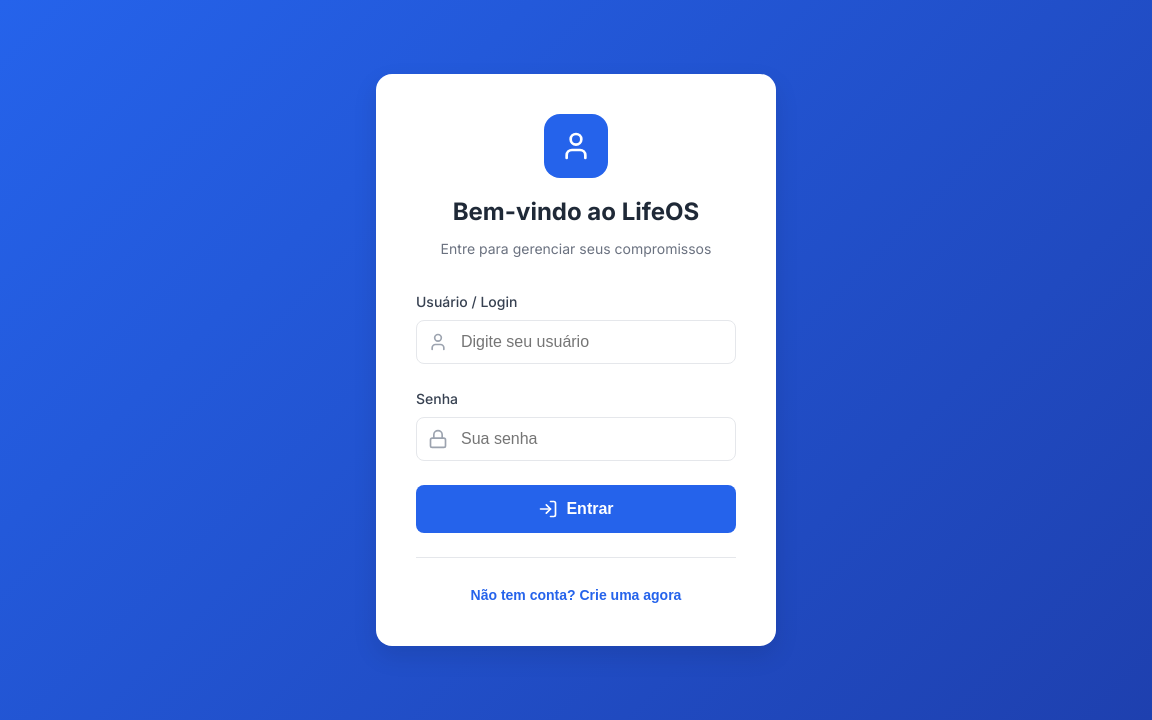
Test: Login Component › deve alternar para modo registro ao clicar no botão
Click the button "Não tem conta? Crie uma agora" at (576, 595), box x1=471 y1=587 x2=681 y2=603
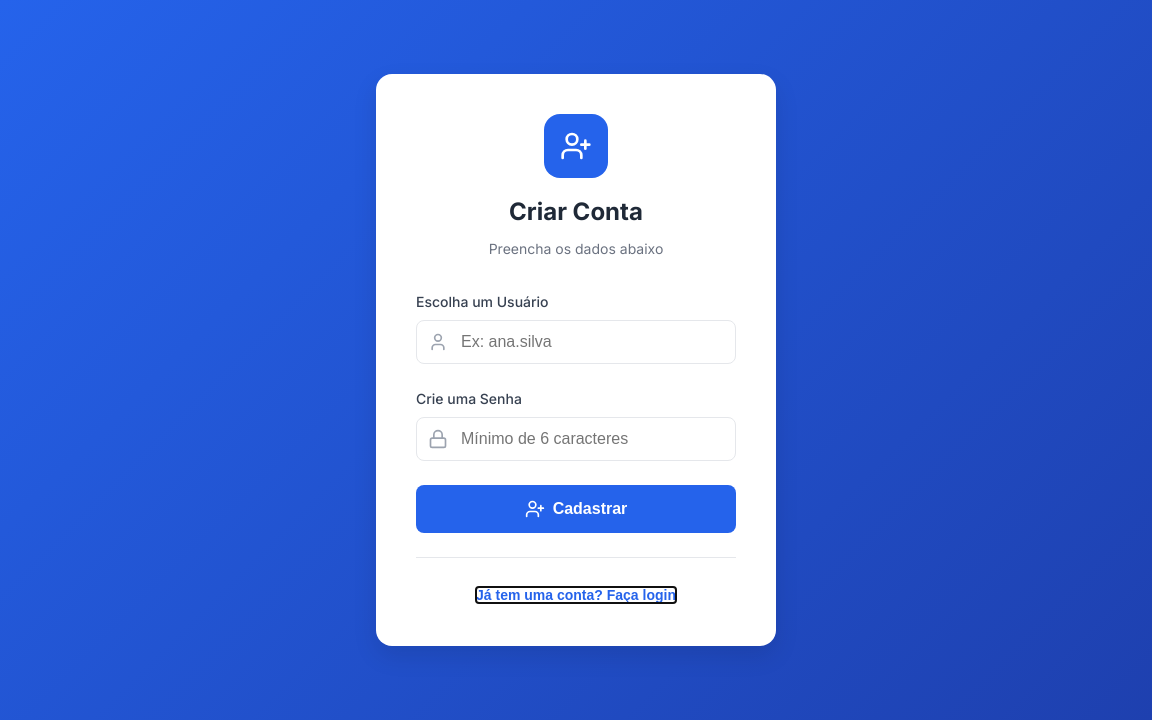
Expected: the heading "Criar Conta" is shown, x1=509 y1=197 x2=643 y2=226
Expected: the field with placeholder "Ex: ana.silva" is shown, x1=416 y1=320 x2=736 y2=364
